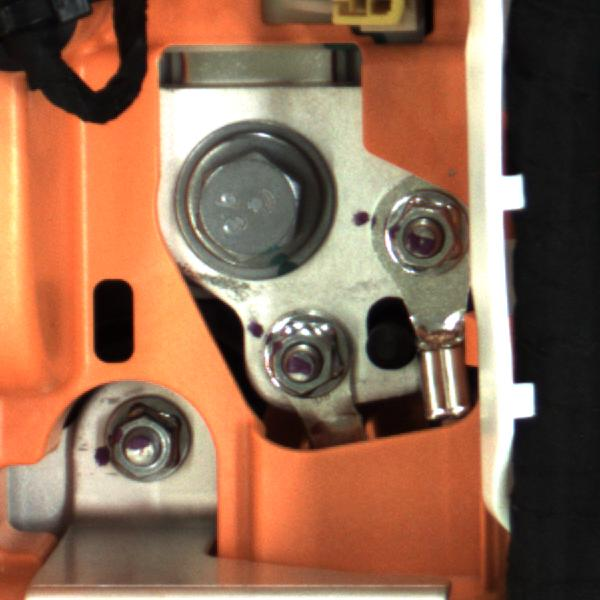nut_b: (166, 131, 340, 287)
screw_s: (379, 180, 469, 287), (100, 394, 202, 482), (261, 310, 359, 396)
